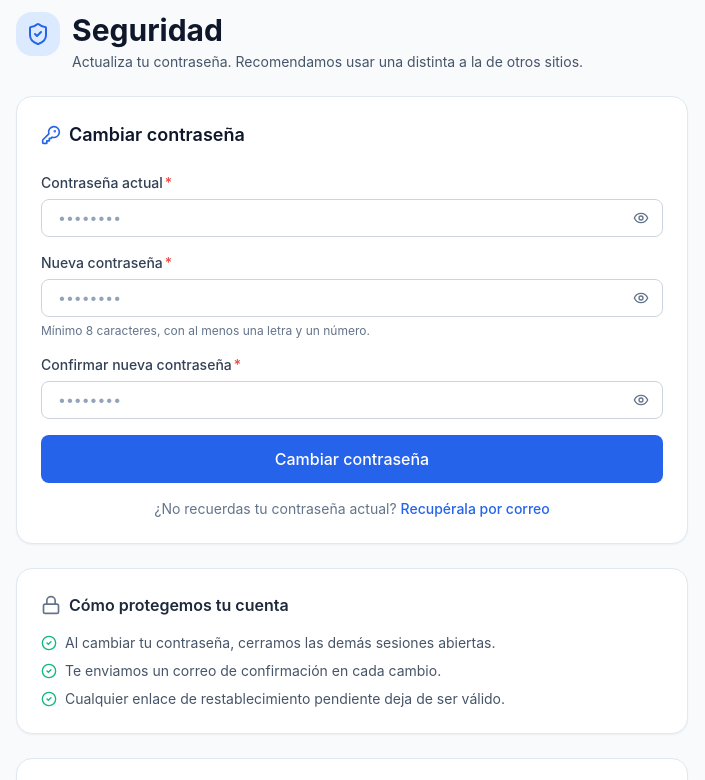
it: SecuritySettings › muestra el error si la contraseña actual es incorrecta
Type "Incorrecta1" into the password field labelled "Contraseña actual*" at {"x": 352, "y": 218}, box x1=41 y1=199 x2=663 y2=237
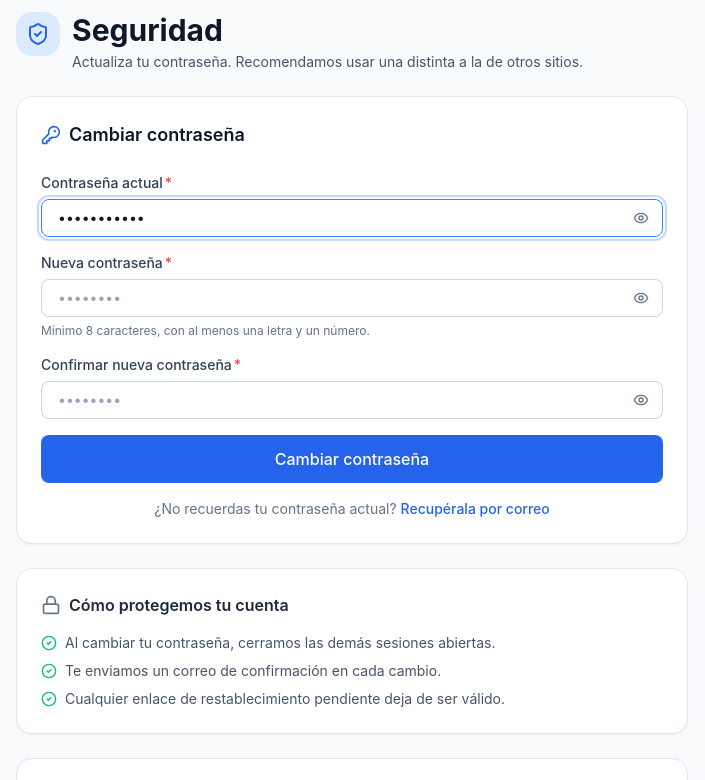
Type "NuevaPass123" into the password field labelled "Nueva contraseña*" at {"x": 352, "y": 298}, box x1=41 y1=279 x2=663 y2=317
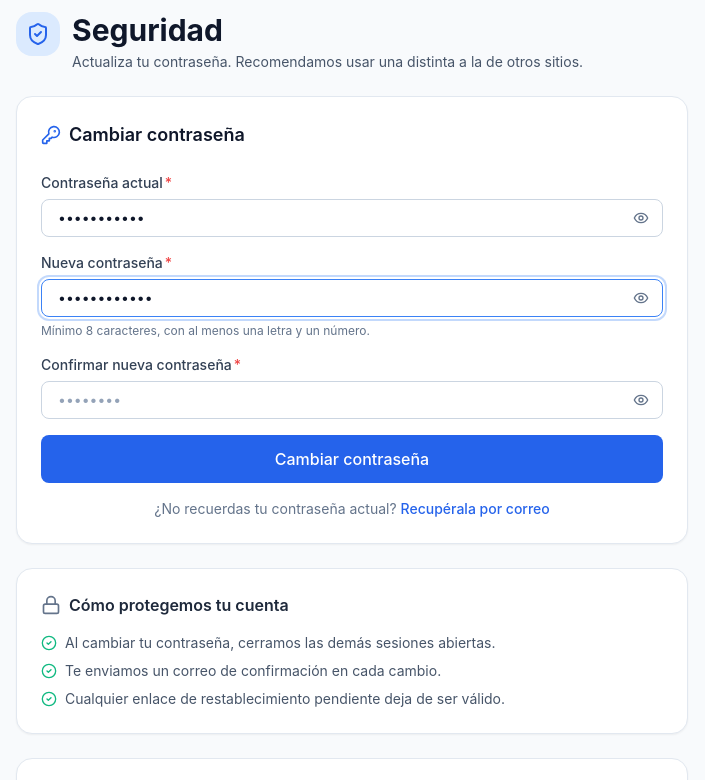
Type "NuevaPass123" into the password field labelled "Confirmar nueva contraseña*" at {"x": 352, "y": 400}, box x1=41 y1=381 x2=663 y2=419
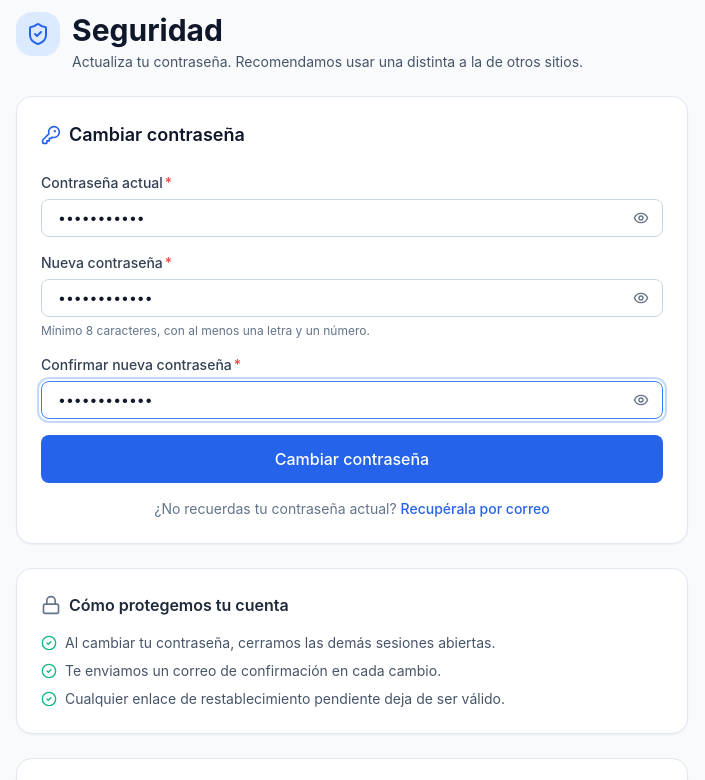
Click the button "Cambiar contraseña" at {"x": 352, "y": 459}, box x1=41 y1=435 x2=663 y2=483
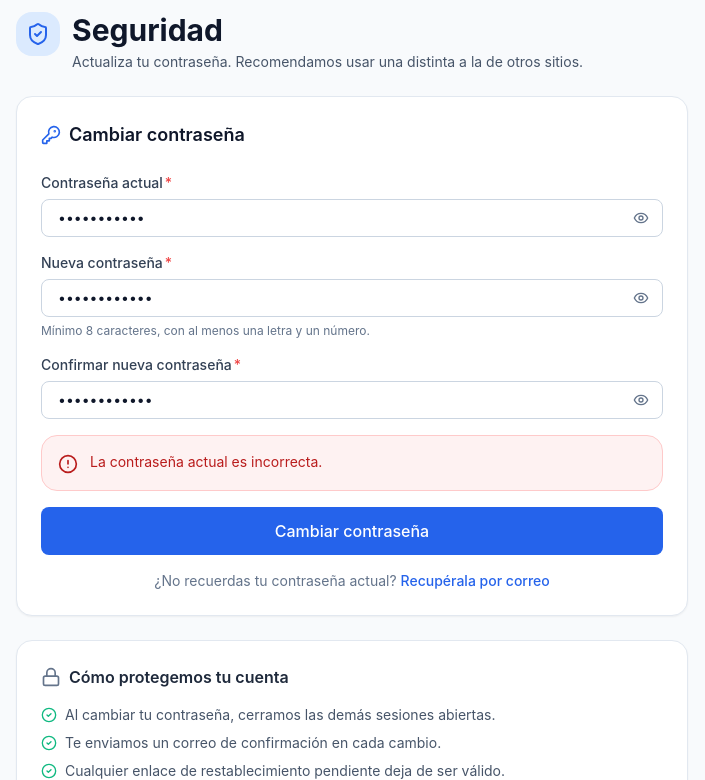
Now the text "La contraseña actual es incorrecta." is shown, box x1=90 y1=453 x2=322 y2=470
